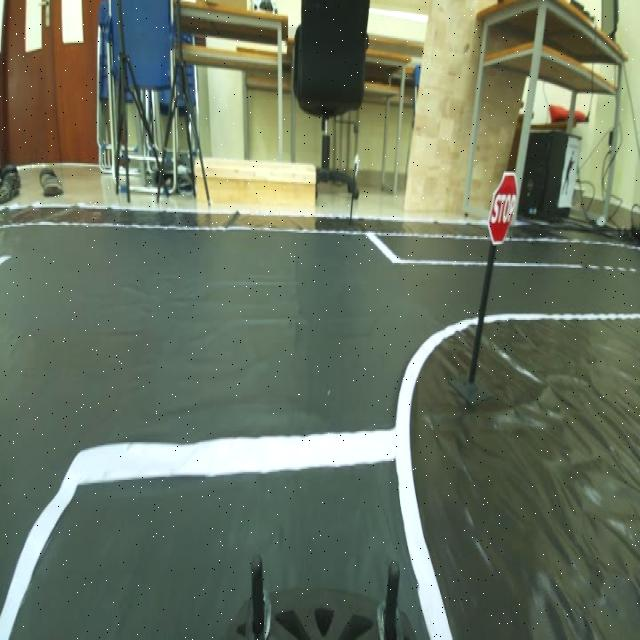stop: (484, 168, 522, 250)
